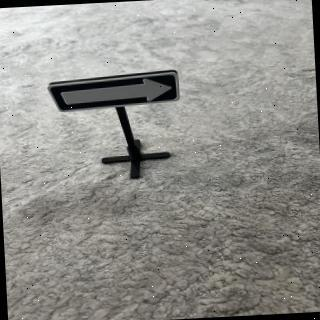sign_oneway_right: (48, 69, 184, 115)
